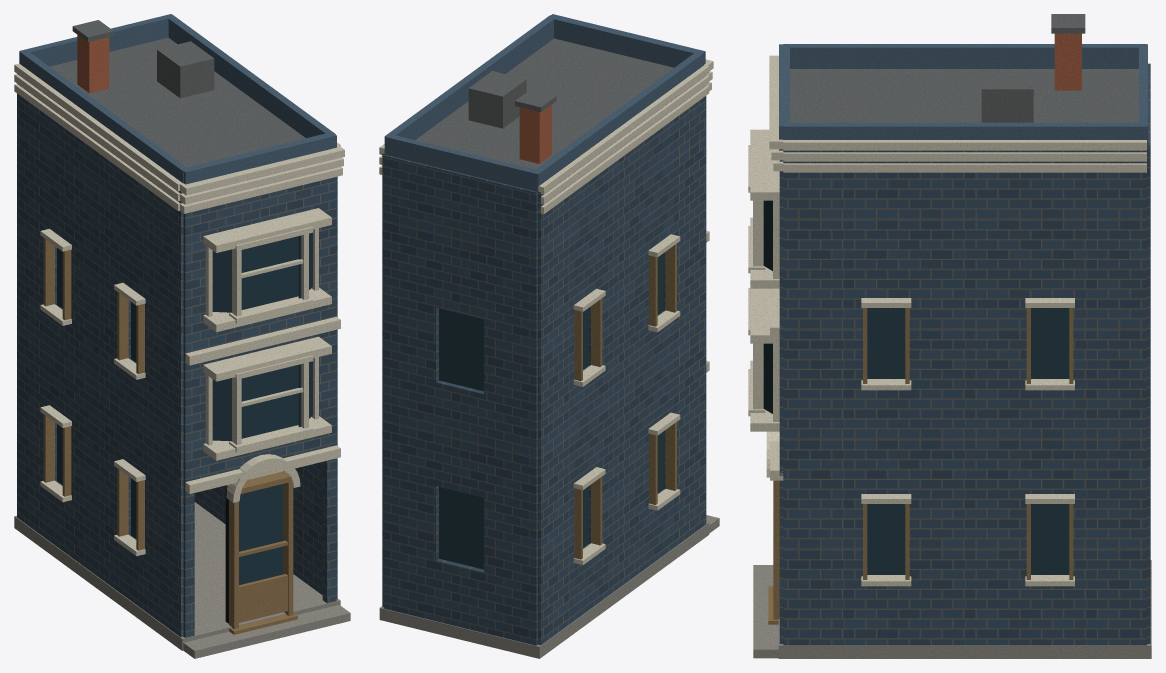
Rendered from VICT3A_lod2.glb.
The picture shows the model from 3 angles, left to right: view 1: azimuth 30°, elevation 25°; view 2: azimuth 150°, elevation 25°; view 3: azimuth 270°, elevation 25°; orthographic projection. The views are drawn at different scales.
Visible parts, largest first — view 1: VICT3A_LOD2; view 2: VICT3A_LOD2; view 3: VICT3A_LOD2.
Boxes of the visible parts, box(x1,y1,x2,y2) form: VICT3A_LOD2: box(14, 14, 350, 658); VICT3A_LOD2: box(379, 14, 719, 658); VICT3A_LOD2: box(748, 14, 1151, 658).
Size of the model in its own units: 3.71 by 10.45 by 6.65.
Materials: 9 (7 with a texture image).
